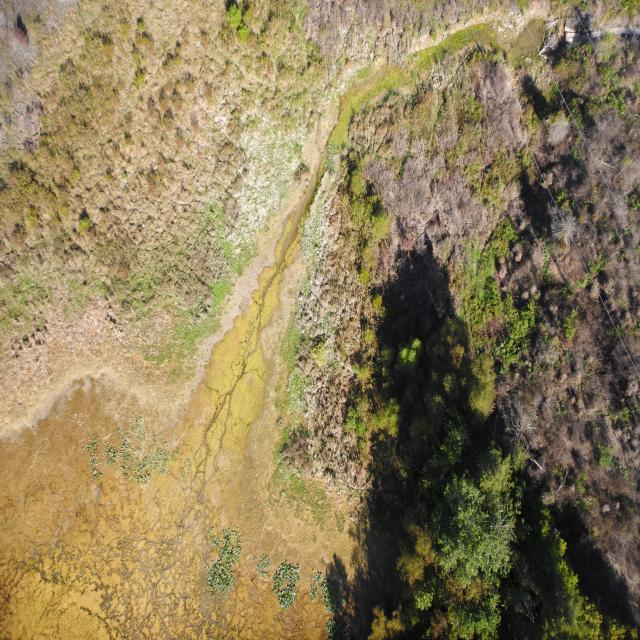Area of Interest: (399, 508, 595, 638)
